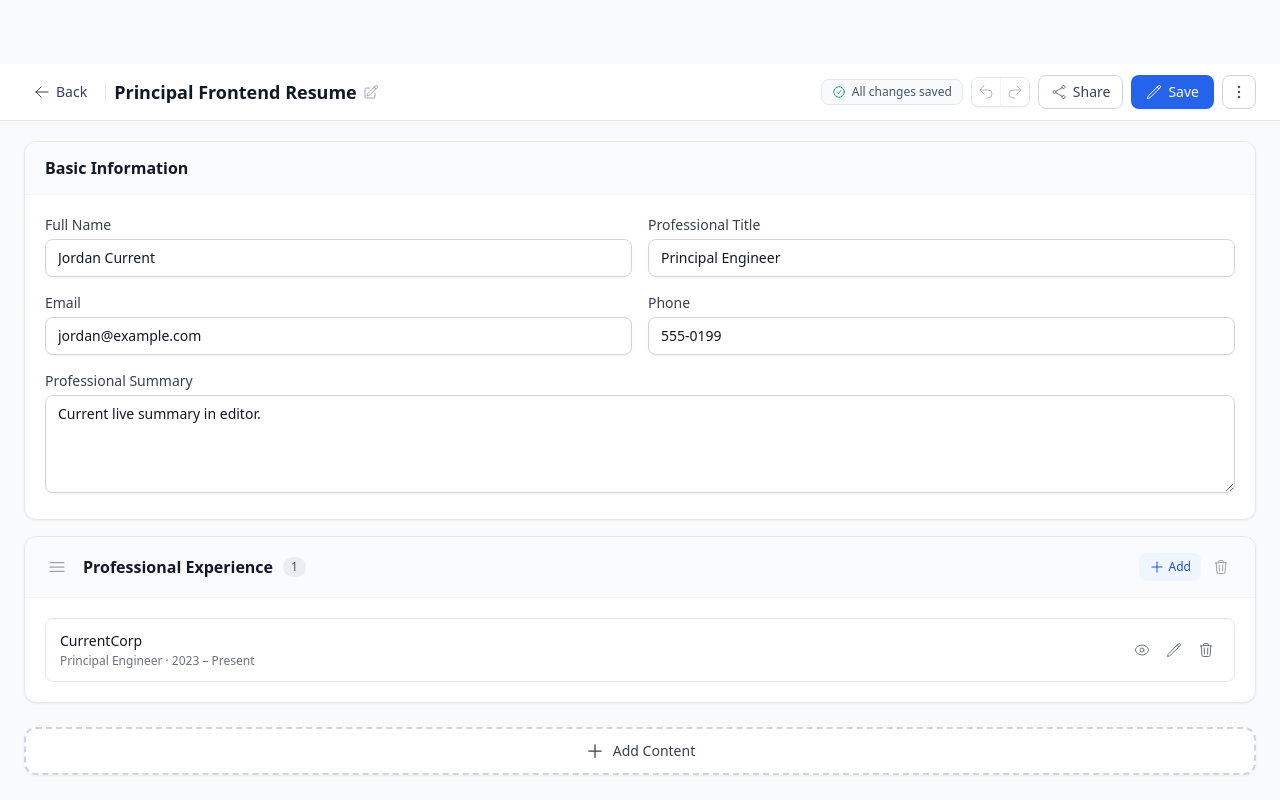
Test case: Version History service, drawer, preview, restore & Undo toast › ResumeEditor Version History UI flow › handles error state and retries loading history cleanly
Step 1. Click the button with test id "toolbar-overflow-btn" → (1239, 92), box left=1222, top=75, right=1256, bottom=109
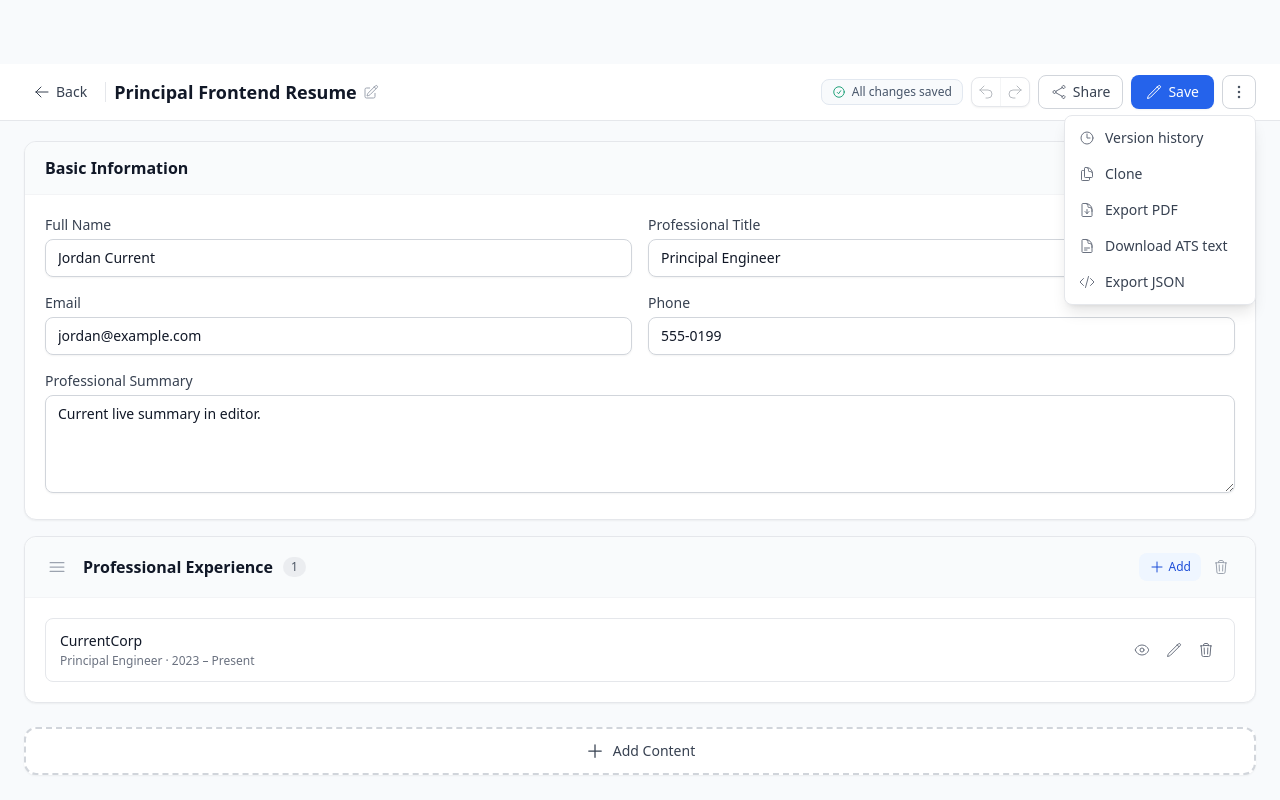
Step 2. Click the menu item "Version history" → (1160, 138), box left=1065, top=120, right=1255, bottom=156
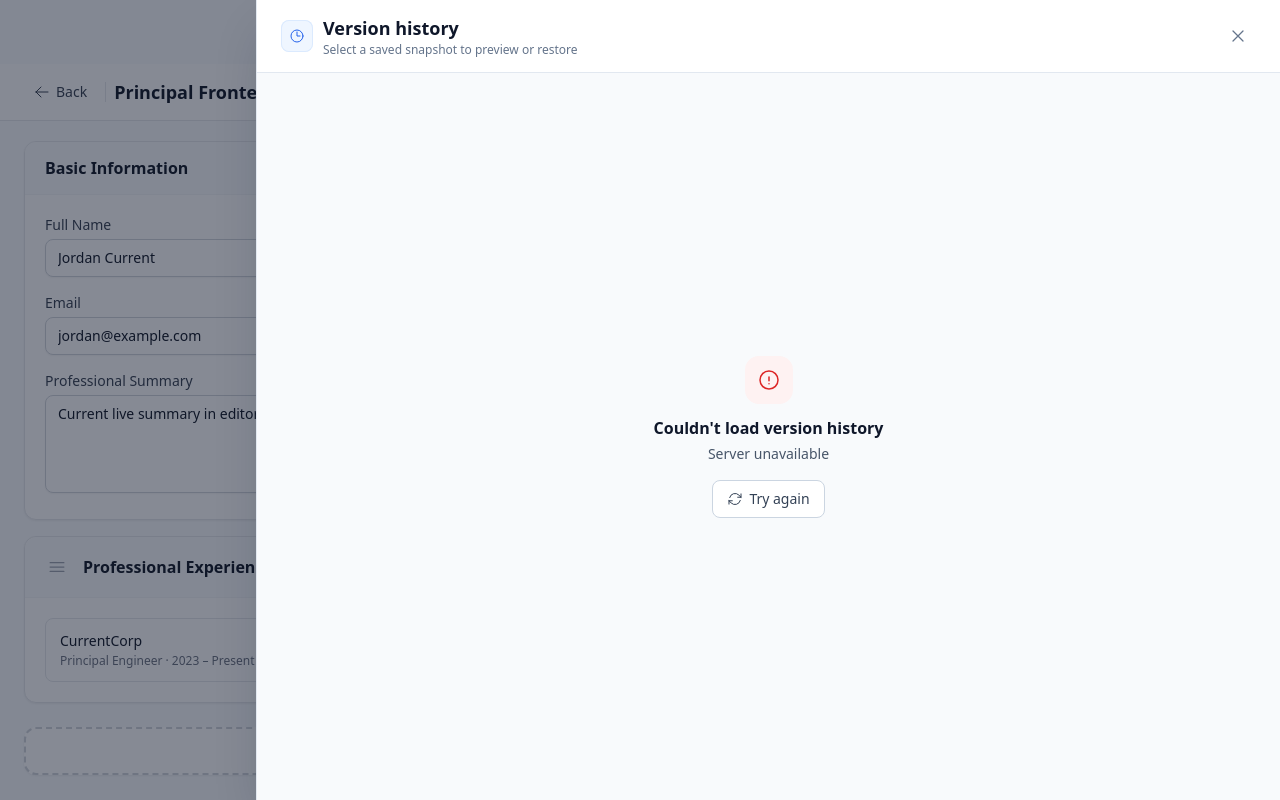
Expected: the message with test id "version-history-error" shows "Server unavailable", left=708, top=444, right=829, bottom=462
Step 3. Click the button "Try again" → (768, 498), box left=712, top=480, right=825, bottom=518
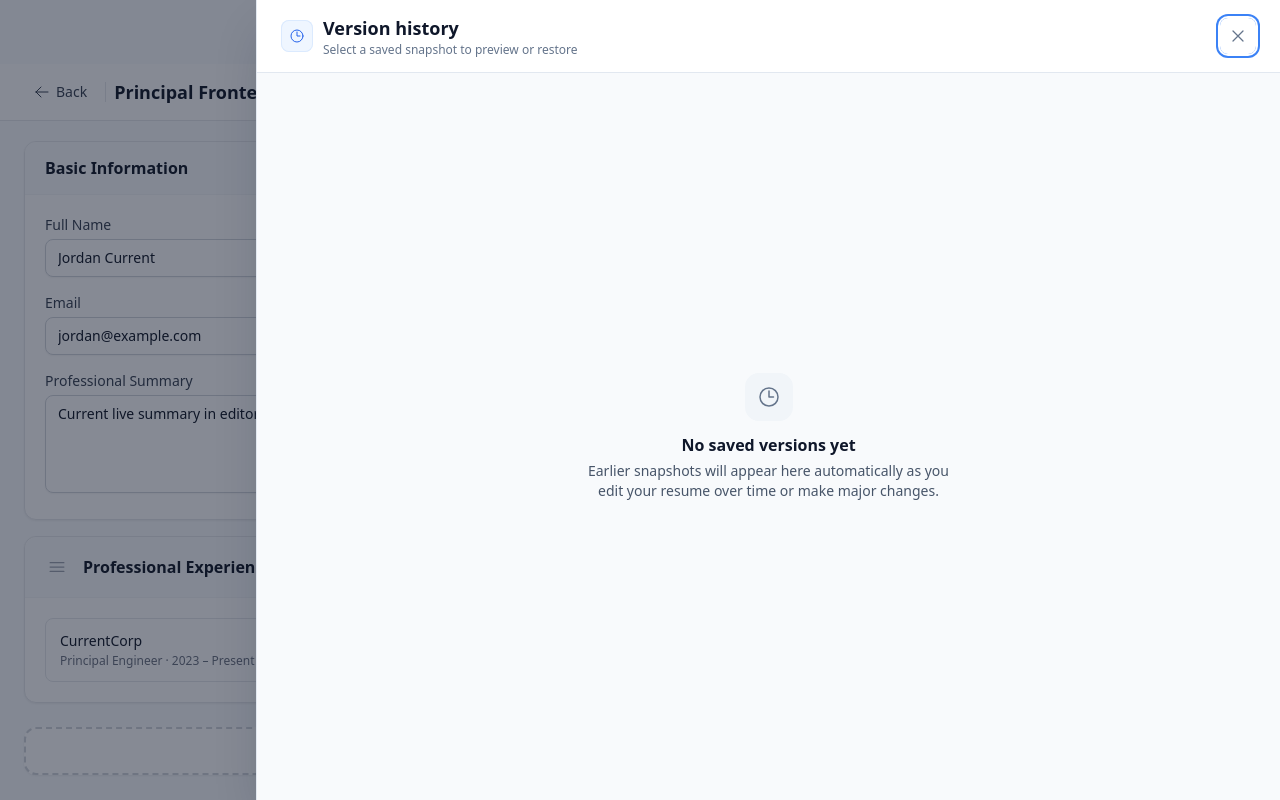
Expected: the element with test id "version-history-empty" is shown
